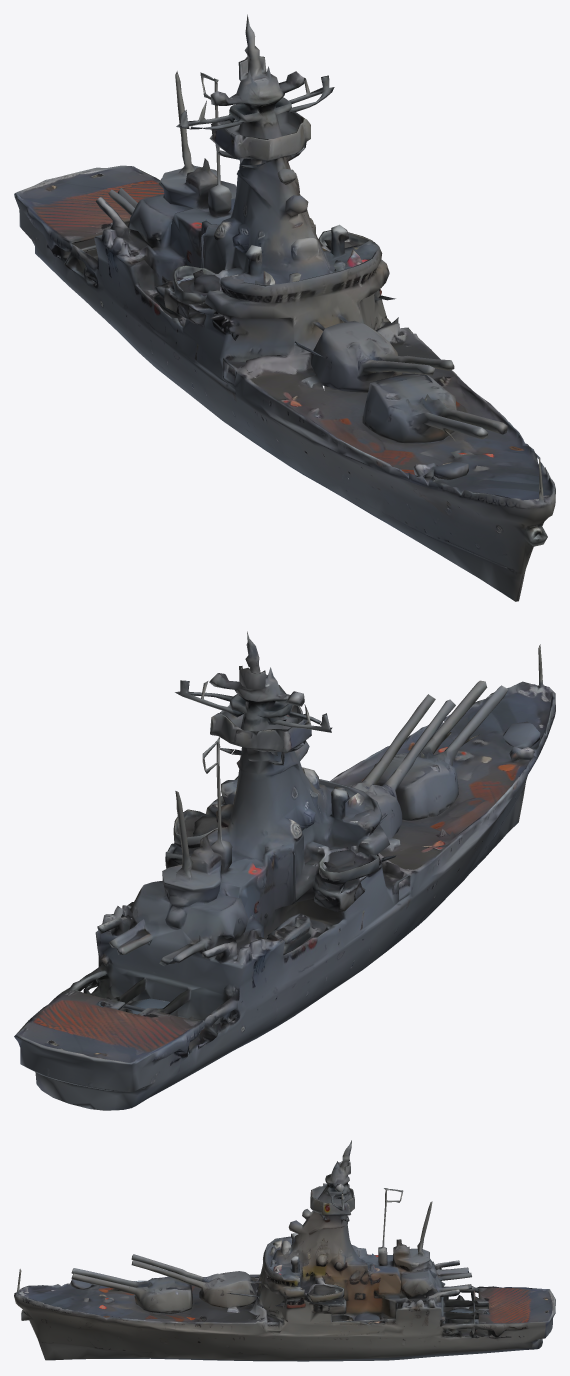
The model's file is battleship.glb.
The picture shows the model from 3 angles, top to bottom: view 1: azimuth 30°, elevation 25°; view 2: azimuth 150°, elevation 25°; view 3: azimuth 270°, elevation 25°; orthographic projection. The views are drawn at different scales.
Visible parts, largest first — view 1: body; view 2: body; view 3: body.
Part boxes in pixels (<box>): body: <box>14,14,555,601</box>; body: <box>14,631,555,1110</box>; body: <box>14,1140,555,1361</box>.
Size of the model in its own units: 5.29 by 9.98 by 22.2.
1 material, 1 textured.
